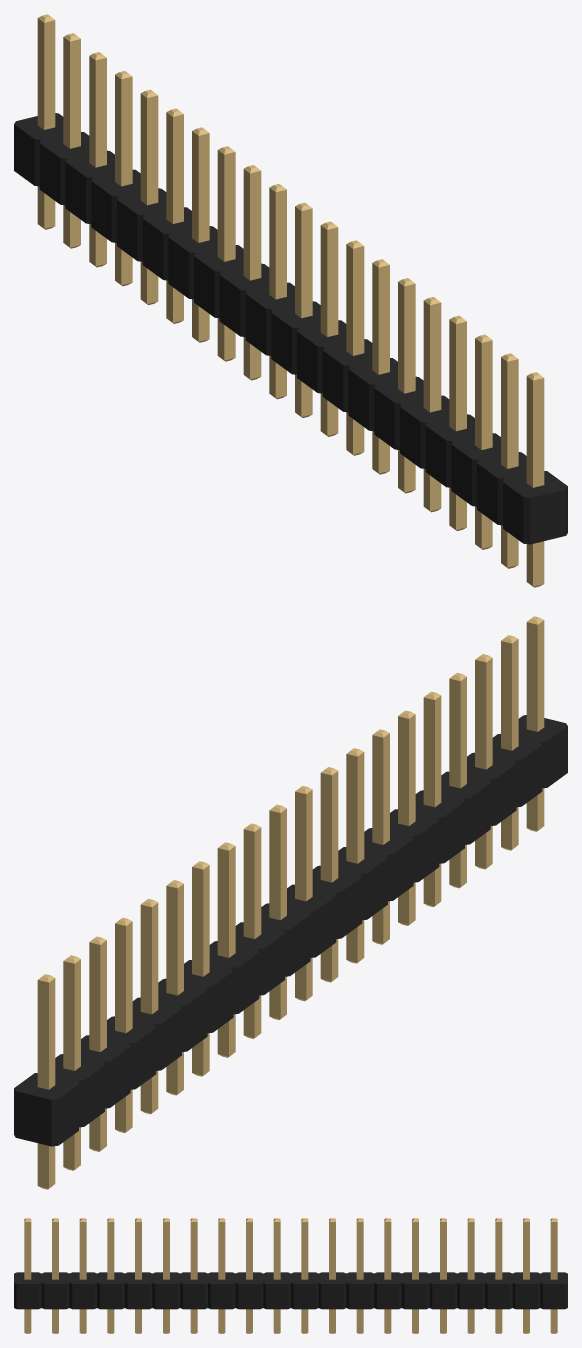
File: pinheader_1x20_p2_54mm_vertical.glb
3 renders of one model, top to bottom at view 1: azimuth 30°, elevation 25°; view 2: azimuth 150°, elevation 25°; view 3: azimuth 270°, elevation 25°, orthographic. The views are drawn at different scales.
Visible parts, largest first — view 1: conn_header_1x20, pin_20; view 2: conn_header_1x20, pin_1; view 3: conn_header_1x20, pin_1, pin_3, pin_4, pin_7, pin_8, pin_10, pin_11, pin_13, pin_14, pin_17, pin_18 (+9 smaller).
Part boxes in pixels (<box>): conn_header_1x20: <box>14,14,567,544</box>; pin_20: <box>526,541,544,587</box>; conn_header_1x20: <box>14,616,567,1146</box>; pin_1: <box>37,1143,55,1189</box>; conn_header_1x20: <box>14,1218,567,1309</box>; pin_1: <box>550,1309,557,1333</box>; pin_3: <box>495,1309,502,1333</box>; pin_4: <box>467,1309,474,1333</box>; pin_7: <box>384,1309,391,1333</box>; pin_8: <box>356,1309,363,1333</box>; pin_10: <box>301,1309,308,1333</box>; pin_11: <box>273,1309,280,1333</box>; pin_13: <box>218,1309,225,1333</box>; pin_14: <box>190,1309,197,1333</box>; pin_17: <box>107,1309,114,1333</box>; pin_18: <box>79,1309,86,1333</box>.
Size of the model in its own units: 0.00254 by 0.0115 by 0.0508.
